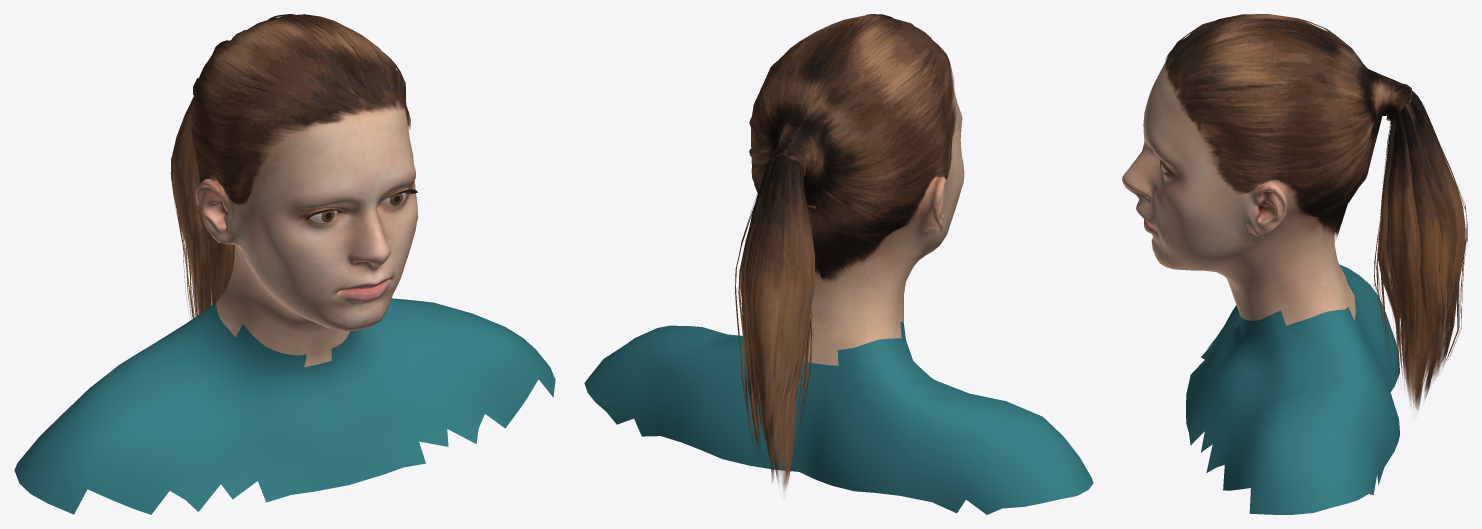
The model's file is assistant.glb.
The picture shows the model from 3 angles, left to right: view 1: azimuth 30°, elevation 25°; view 2: azimuth 150°, elevation 25°; view 3: azimuth 270°, elevation 25°; orthographic projection. The views are drawn at different scales.
Parts seen in each view (by area): view 1: Assistant, Ponytail hairstyle; view 2: Assistant, Ponytail hairstyle; view 3: Assistant, Ponytail hairstyle.
Boxes of the visible parts, x1,y1,x2,y2 form: Assistant: (14, 101, 555, 514); Ponytail hairstyle: (170, 14, 411, 319); Assistant: (584, 75, 1093, 514); Ponytail hairstyle: (735, 14, 957, 491); Assistant: (1122, 63, 1399, 514); Ponytail hairstyle: (1164, 14, 1467, 409).
Bounding box in the file's own units: 4.38 × 3.57 × 2.78.
9 materials, 2 textured.
